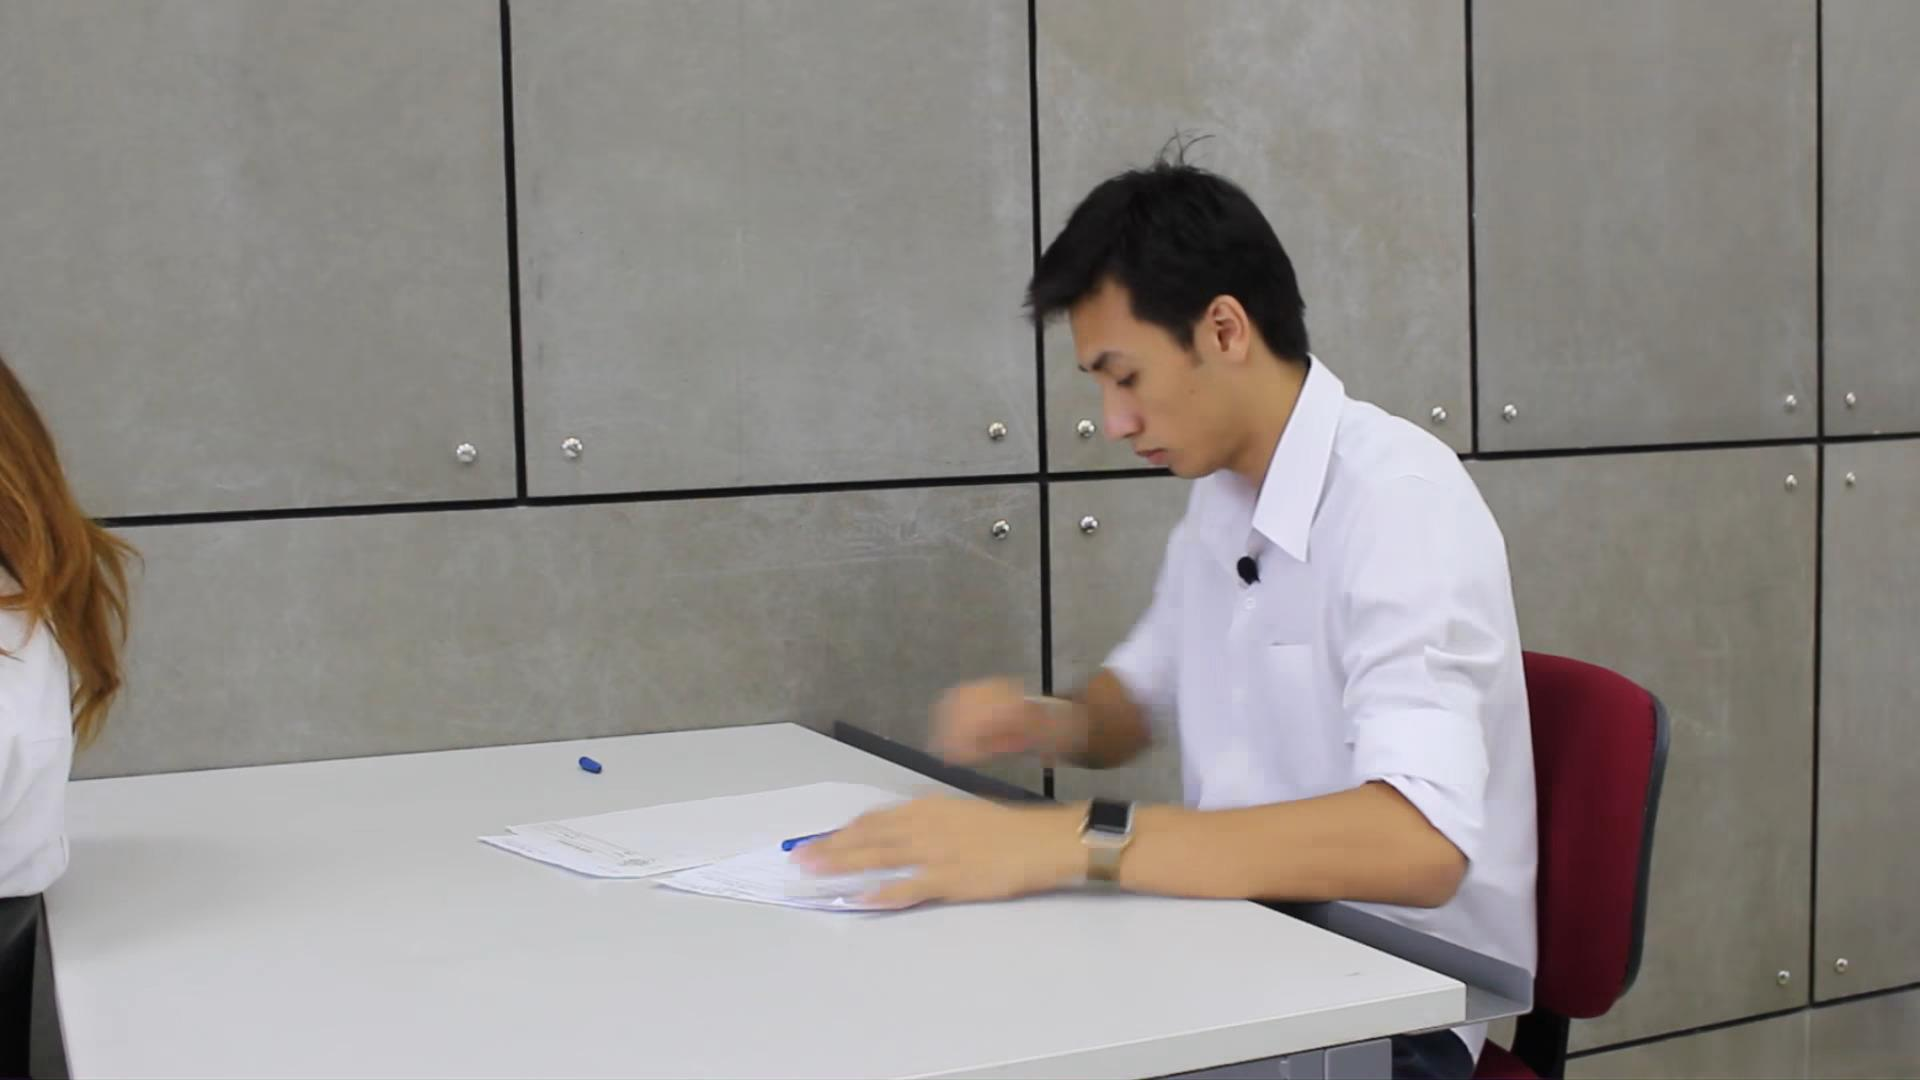good: (455, 117, 1571, 994)
